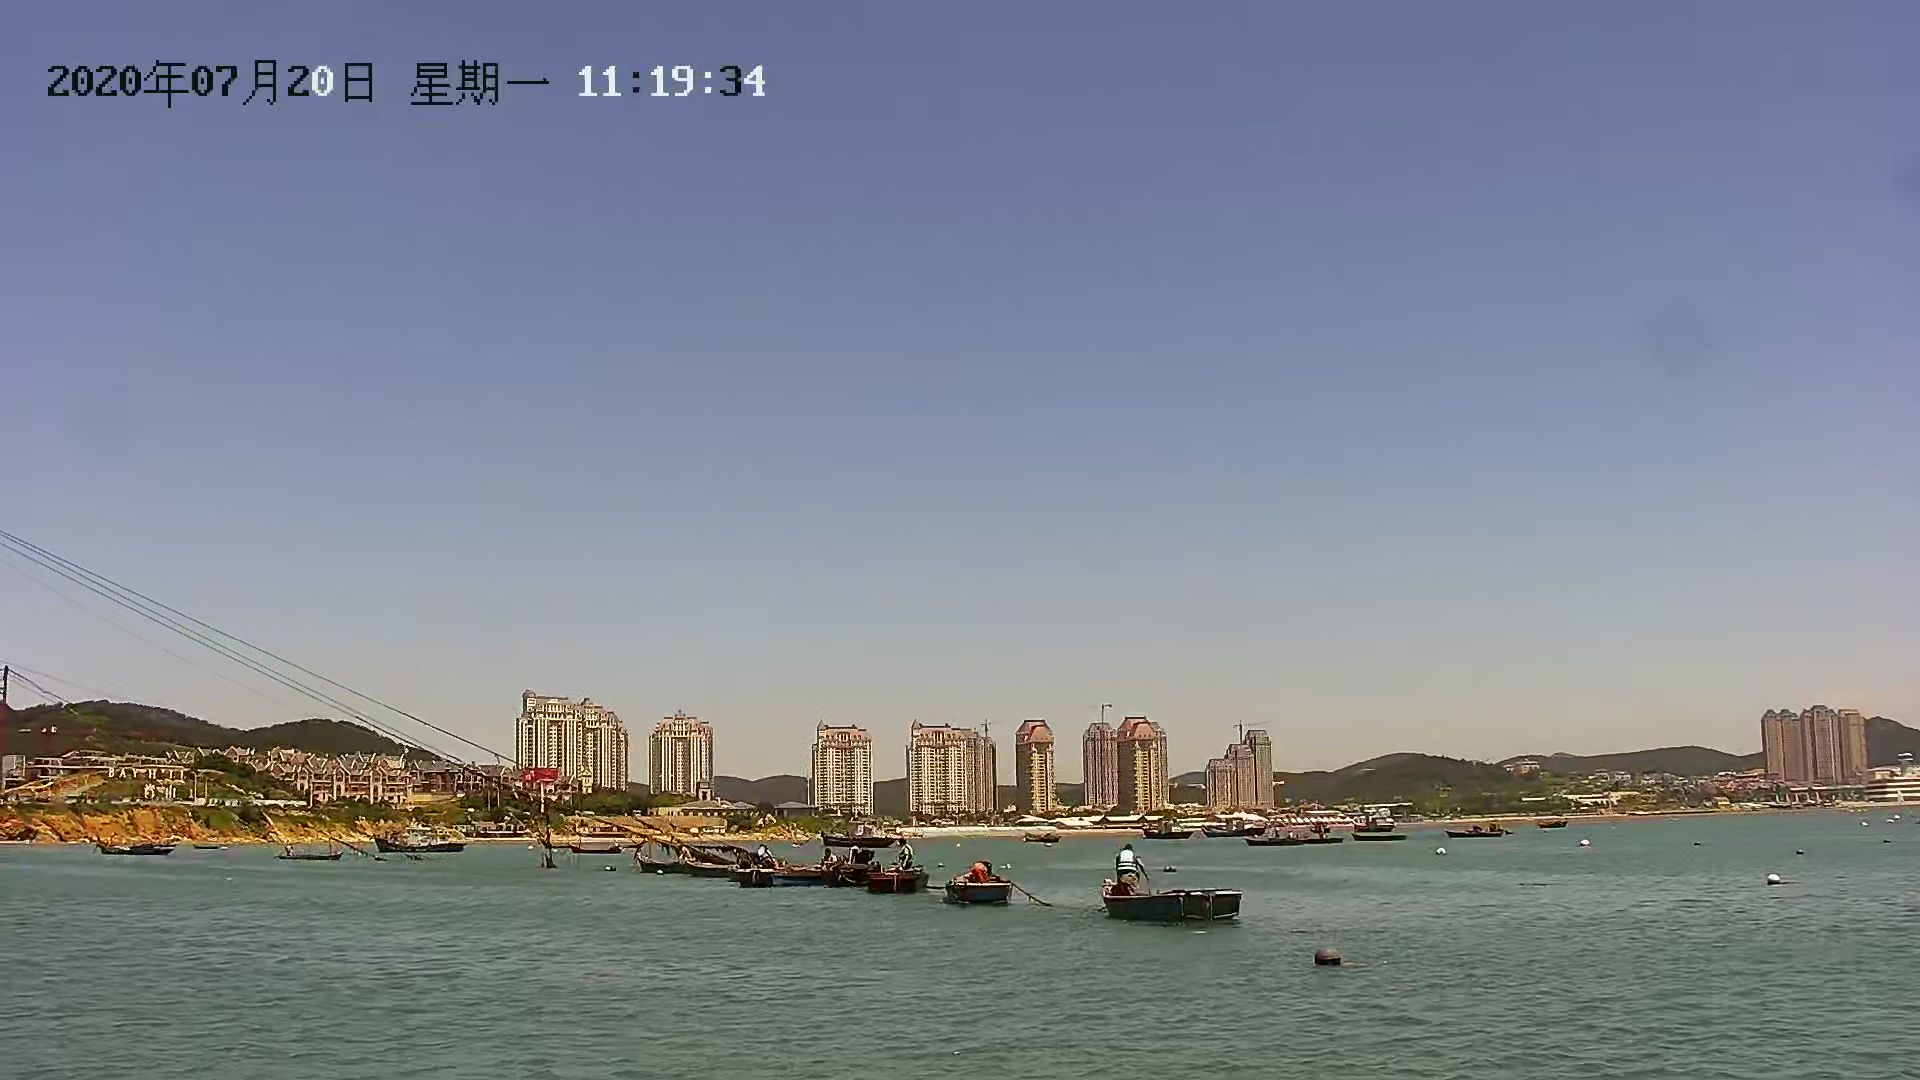ball: (1307, 938, 1349, 972)
boat: (1093, 877, 1251, 920), (742, 842, 872, 883), (620, 840, 754, 875), (681, 838, 818, 871), (943, 858, 1029, 909), (685, 846, 807, 880), (870, 839, 930, 898), (97, 829, 192, 862), (363, 834, 469, 857), (280, 842, 360, 861)
person: (1110, 833, 1148, 894)
